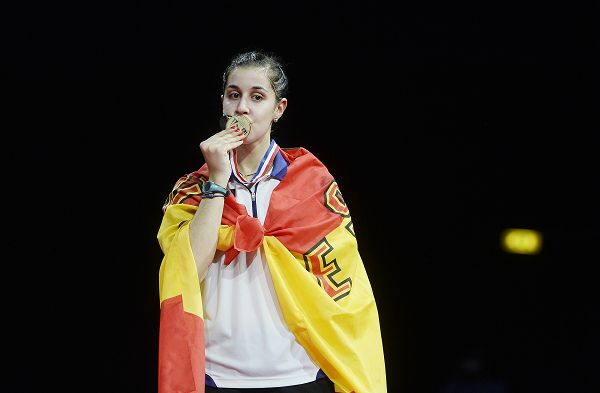face: (221, 68, 276, 143)
